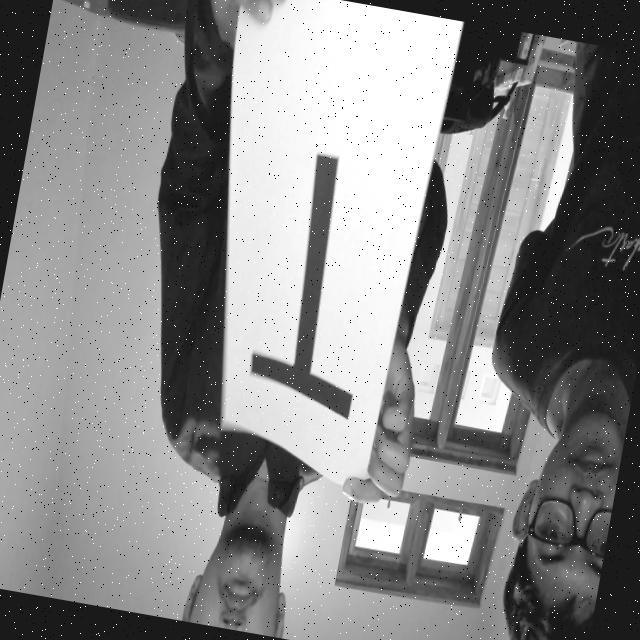t: (226, 122, 401, 431)
